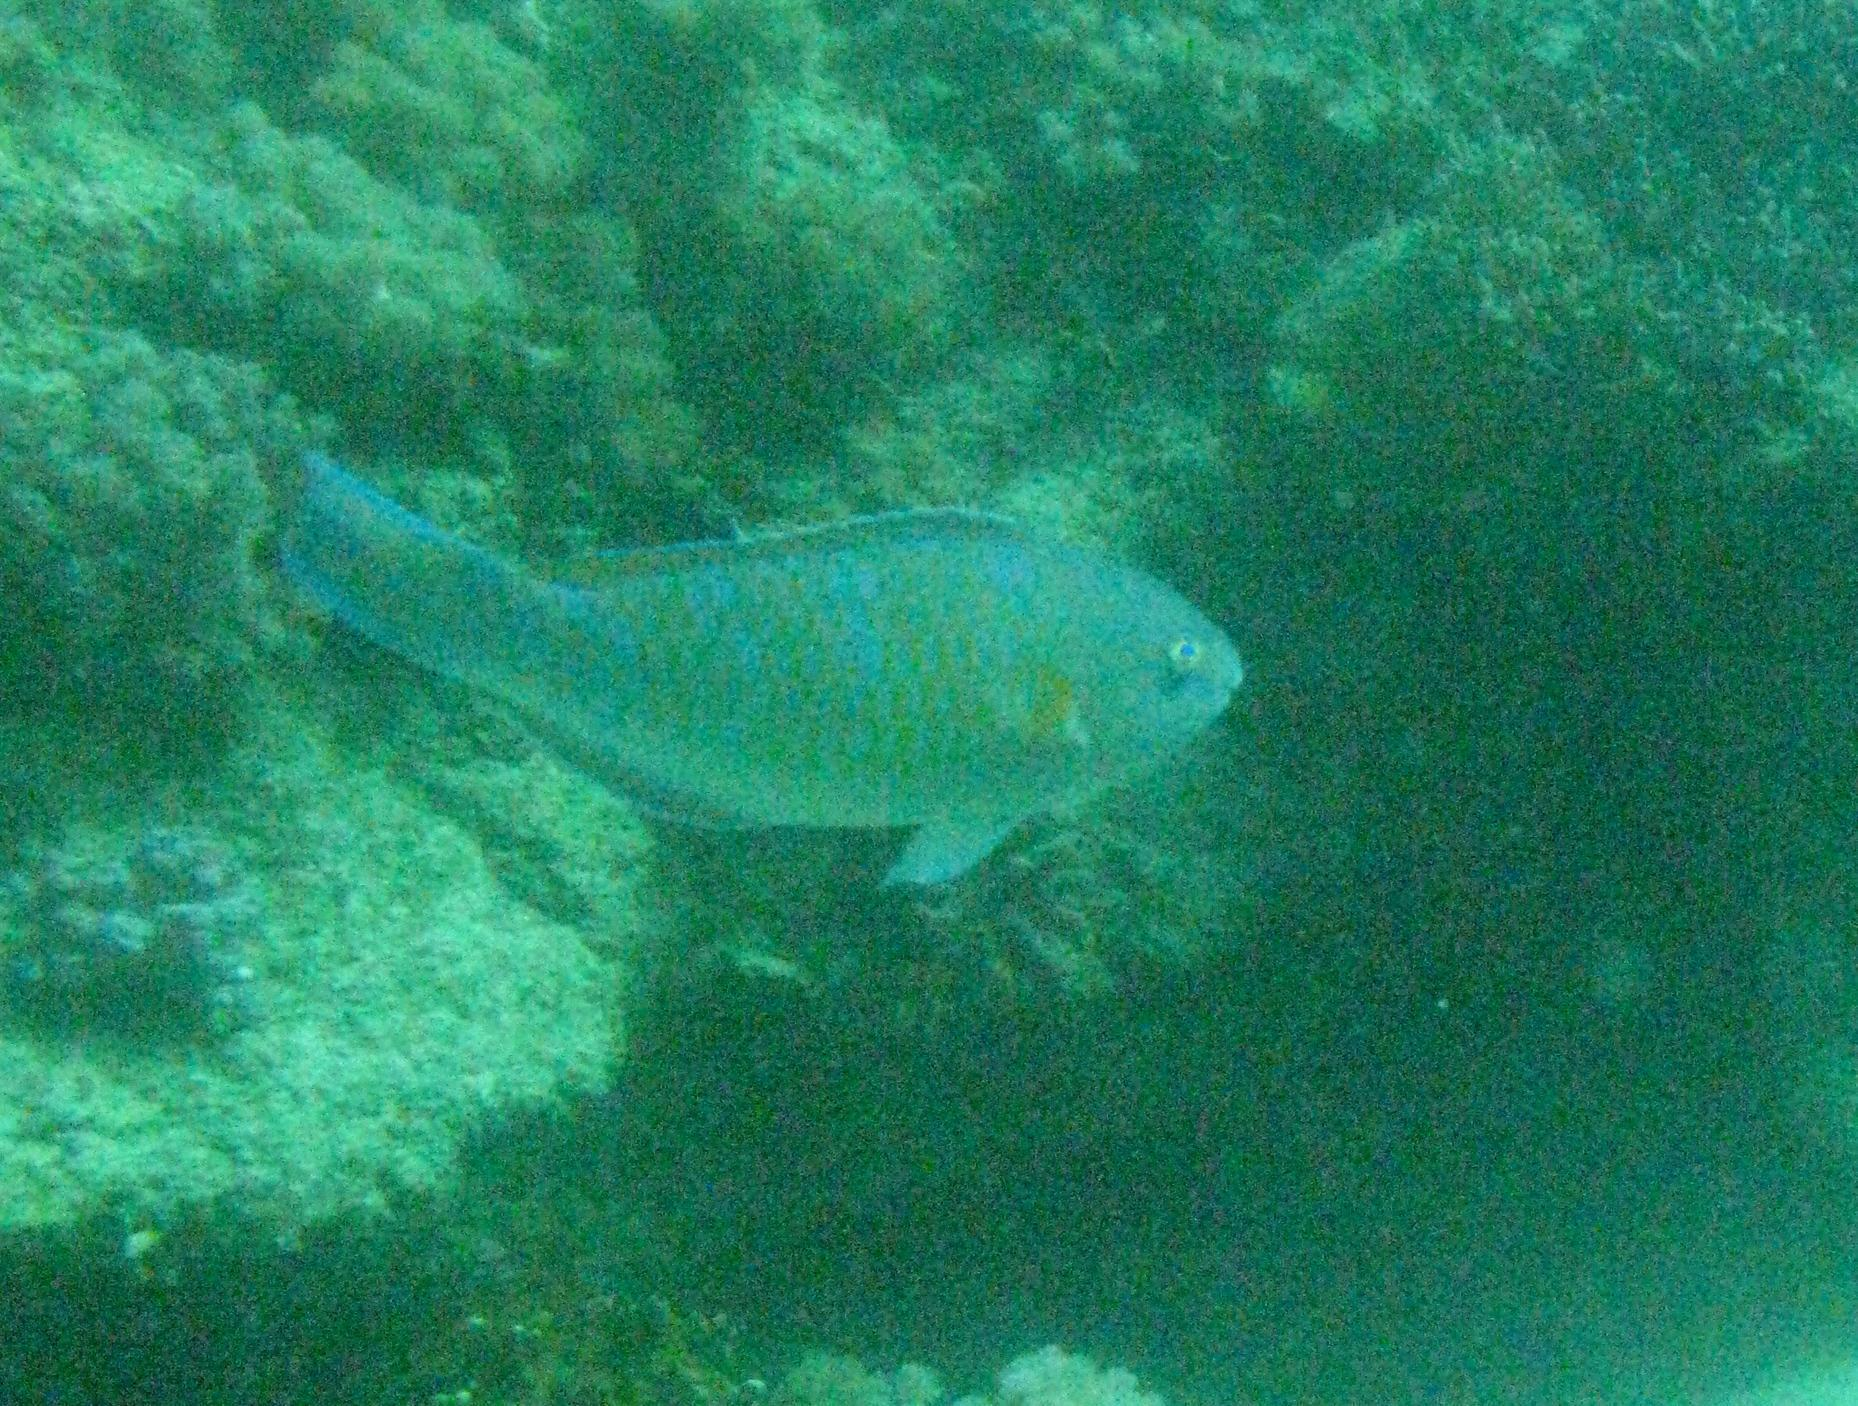Scarus ghobban: (238, 377, 1430, 990)
